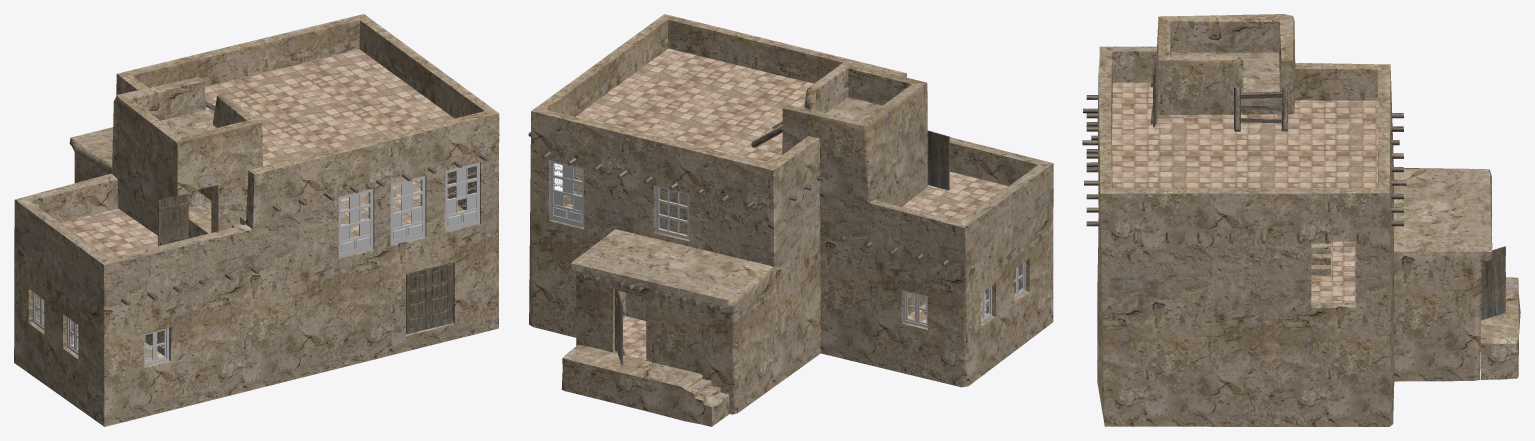
The model's file is House_04_LOD1.fbx.
3 renders of one model, left to right at view 1: azimuth 30°, elevation 25°; view 2: azimuth 150°, elevation 25°; view 3: azimuth 270°, elevation 25°, orthographic. The views are drawn at different scales.
Parts seen in each view (by area): view 1: polySurface2617; view 2: polySurface2617; view 3: polySurface2617.
Part boxes in pixels (<box>): polySurface2617: <box>14,14,499,426</box>; polySurface2617: <box>528,14,1053,426</box>; polySurface2617: <box>1082,14,1520,426</box>.
Bounding box in the file's own units: 15.98 × 8.92 × 13.72.
